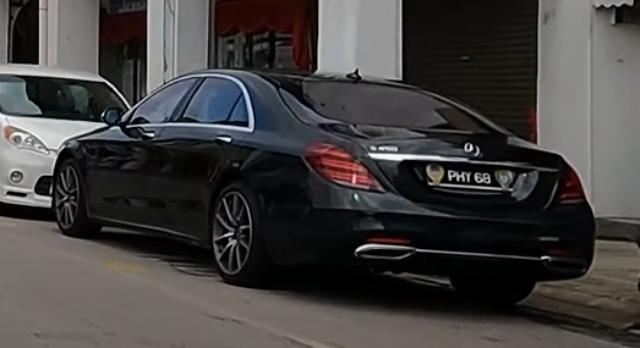License_Plate: (423, 166, 519, 192)
car: (52, 68, 597, 309)
